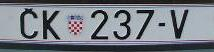-: (157, 22, 166, 26)
2: (91, 9, 109, 40)
3: (113, 9, 131, 40)
7: (135, 9, 155, 40)
C: (20, 10, 38, 39)
K: (42, 9, 61, 40)
V: (171, 9, 189, 39)
